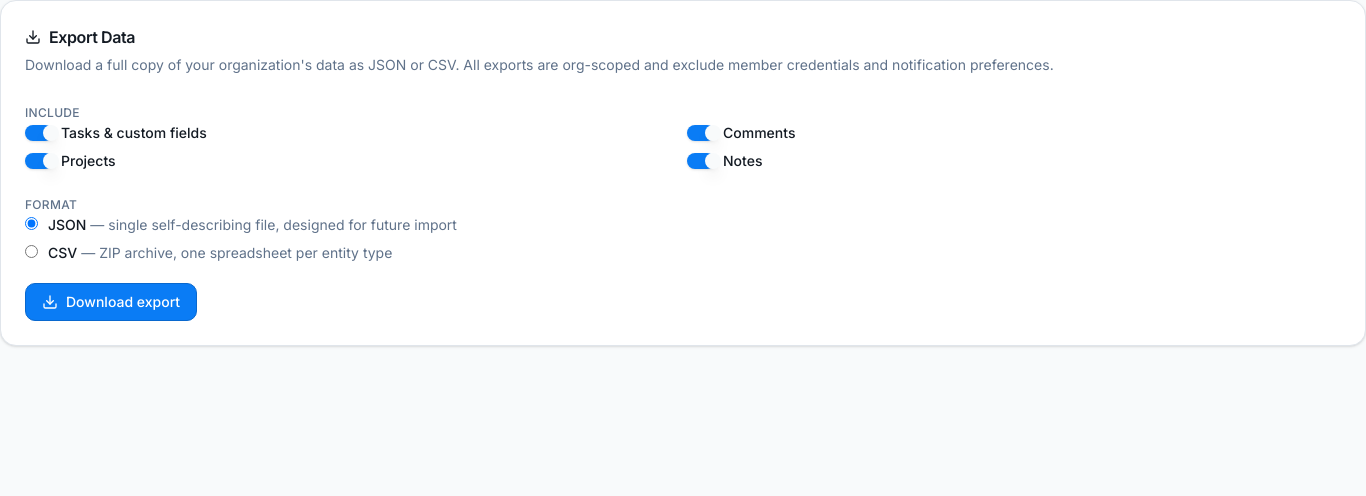
Scenario: ExportCard — export_ready SSE live-update › removes the jobQueued spinner when the export_ready SSE notification arrives
This screenshot has width=1366, height=496.
Click "Download export" to enter the job-queued state.
Click the button "Download export": x=111, y=302 [25, 283, 197, 321]
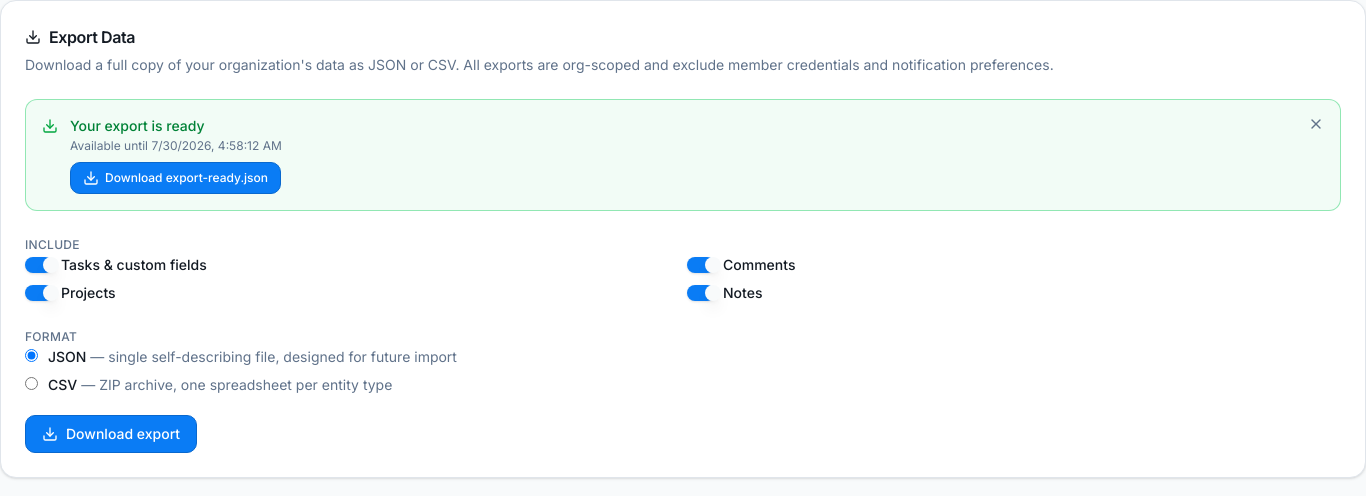
Check: the button "preparing your export" is shown, box [25, 415, 197, 453]
Check: the text "Your export is ready" is shown, box [70, 117, 205, 134]
